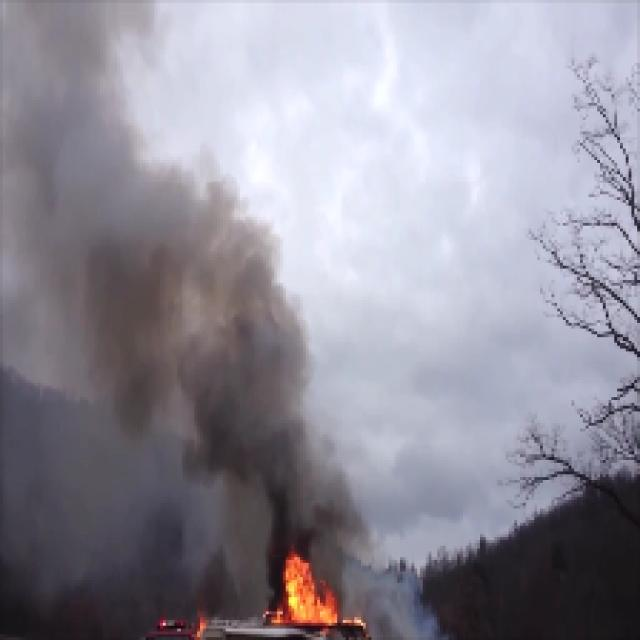fire: (282, 554, 344, 631)
smoke: (5, 4, 166, 608), (173, 178, 308, 532)
